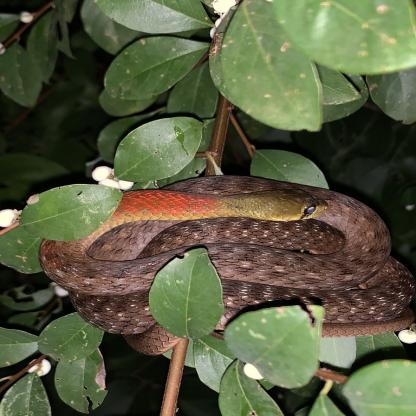Snake: (38, 168, 414, 351)
